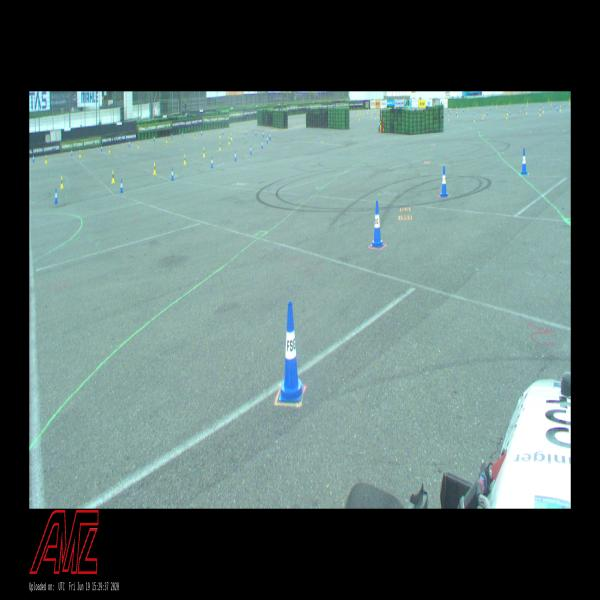blue_cone: (280, 300, 304, 400), (370, 201, 384, 248), (440, 165, 448, 198), (520, 148, 528, 174), (54, 189, 58, 204), (120, 178, 123, 194), (171, 167, 174, 181), (211, 156, 213, 169), (261, 140, 263, 150), (250, 145, 252, 155), (269, 132, 271, 141), (266, 135, 268, 144), (32, 155, 34, 163), (262, 130, 264, 138), (222, 128, 224, 136), (245, 128, 247, 136), (255, 129, 257, 136), (71, 149, 73, 156), (171, 132, 173, 139), (509, 109, 511, 116), (154, 136, 156, 142), (128, 141, 130, 147), (235, 151, 236, 162), (101, 144, 102, 152), (557, 105, 558, 112), (487, 109, 488, 116), (201, 130, 202, 136), (473, 110, 474, 116), (182, 132, 183, 137)
orange_cone: (482, 115, 483, 122)
yellow_cone: (111, 170, 115, 184), (60, 176, 64, 189), (153, 162, 156, 175), (184, 154, 186, 166), (203, 148, 205, 158), (45, 154, 47, 164), (79, 149, 81, 158), (166, 136, 168, 144), (108, 146, 110, 154), (228, 137, 230, 145), (137, 141, 139, 149), (219, 142, 221, 150), (483, 110, 485, 118), (194, 133, 196, 140), (539, 109, 541, 116), (219, 132, 221, 138), (542, 107, 544, 113), (506, 110, 508, 116), (358, 116, 360, 121), (231, 133, 232, 141), (526, 108, 527, 115), (474, 116, 475, 123), (448, 115, 449, 122), (506, 113, 507, 120), (560, 105, 561, 112), (375, 115, 376, 119)
